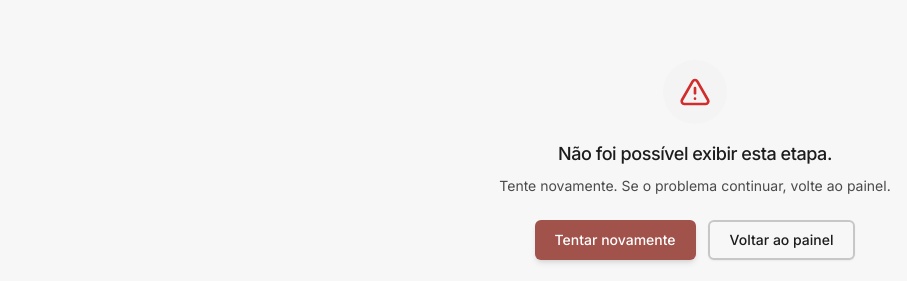
Test case: mostra o aviso, registra o escopo e "Tentar novamente" remonta os filhos
Expected: the heading "Não foi possível exibir esta etapa." is shown, top-left (558, 143), bottom-right (832, 164)
Click the button "Tentar novamente": (615, 240) top-left (534, 220), bottom-right (696, 260)
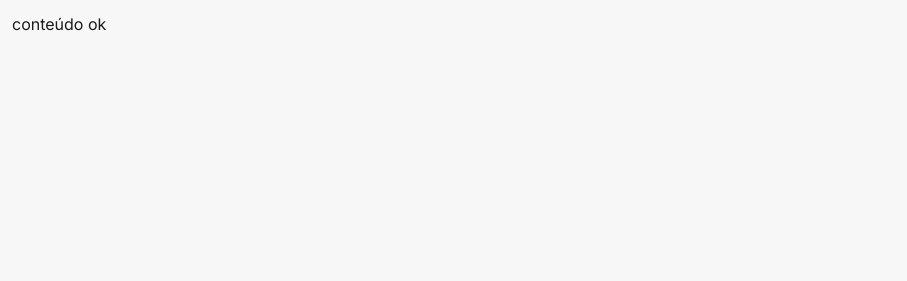
Now the text "conteúdo ok" is shown, box top-left (12, 14), bottom-right (106, 34)
